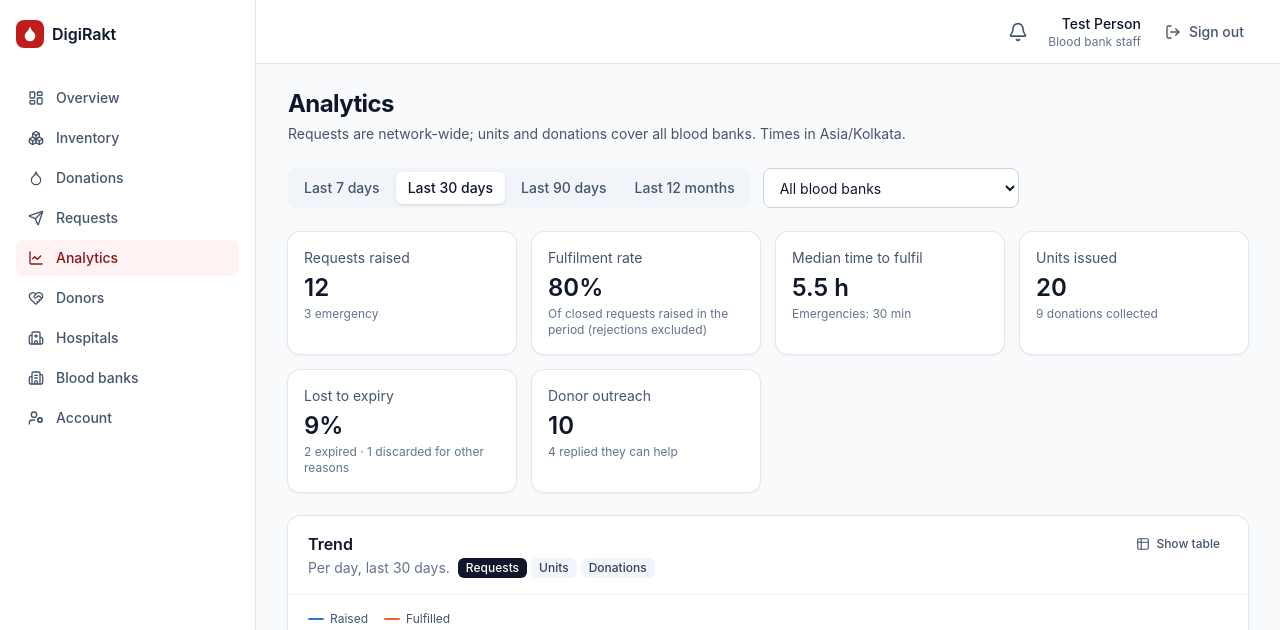
Scenario: analytics › refetches for a new period and keeps the previous charts while loading
Expected: the text "80%" is shown, [548,273,603,302]
Click the button "Last 90 days" at coordinates (564, 188), box [509,172,619,204]
(page scrolled)
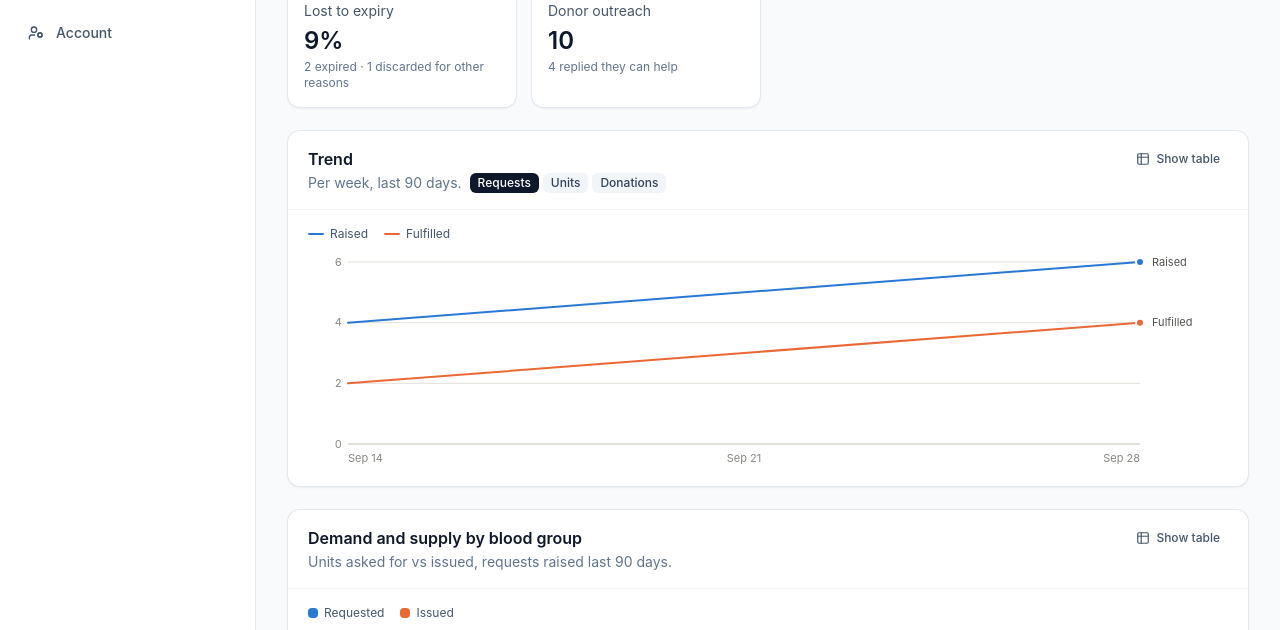
Expected: the picture named "per week" is shown, [308,250,1228,470]
